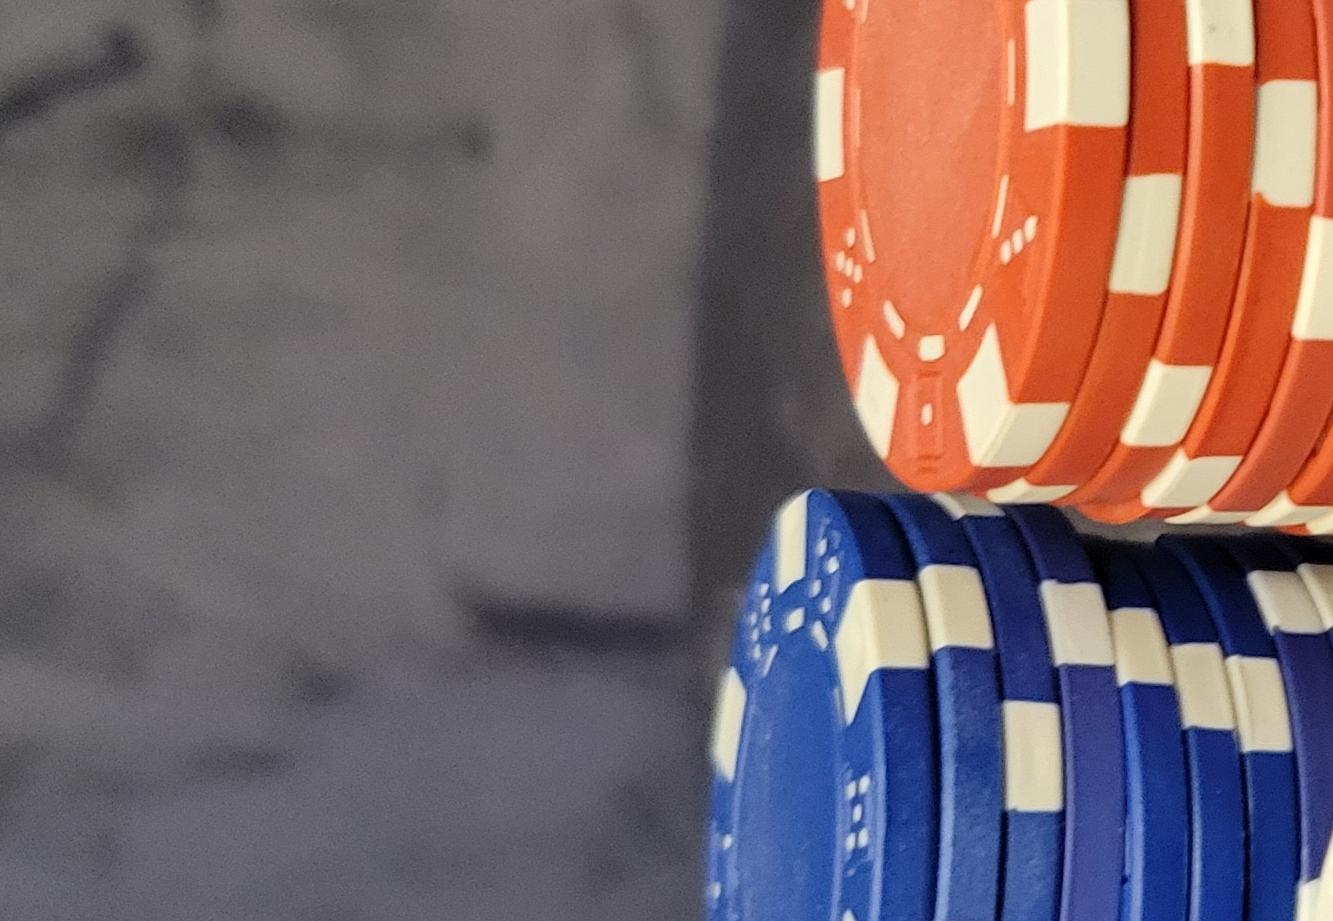Chip: (1, 382, 910, 921)
